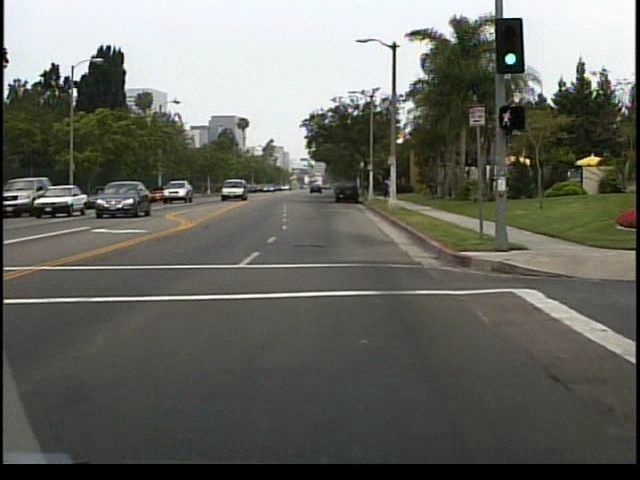person: (387, 175, 399, 200), (386, 178, 387, 199)
